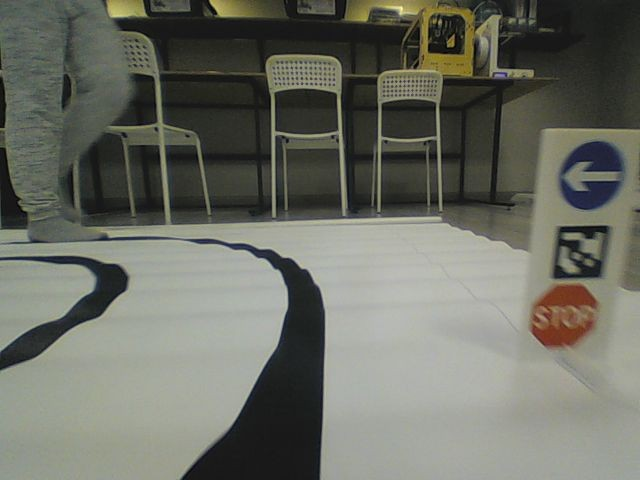Stop: (529, 283, 598, 348)
